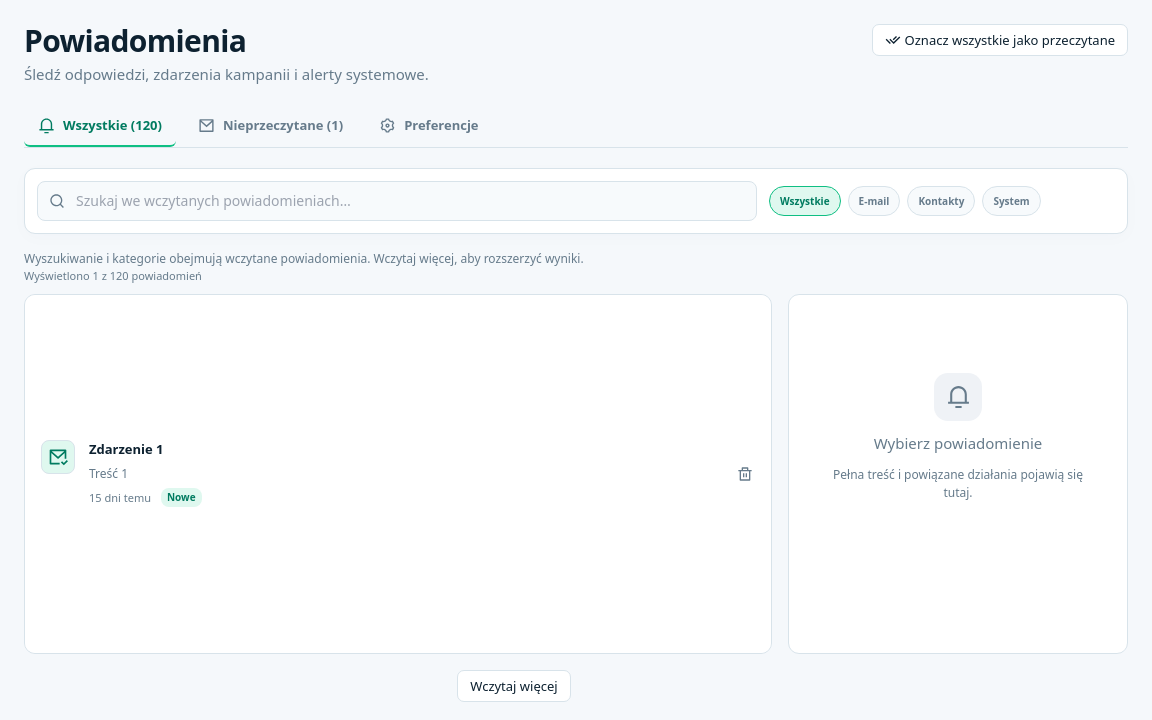
Test: notification workspace › limits unread pagination by unread count, not global total
This screenshot has width=1152, height=720.
Expected: the button "Zdarzenie 1 Treść 1 15 dni temu Nowe" is shown, [25, 422, 727, 525]
Click the tab "Nieprzeczytane (1)" at (271, 126), box [184, 105, 357, 147]
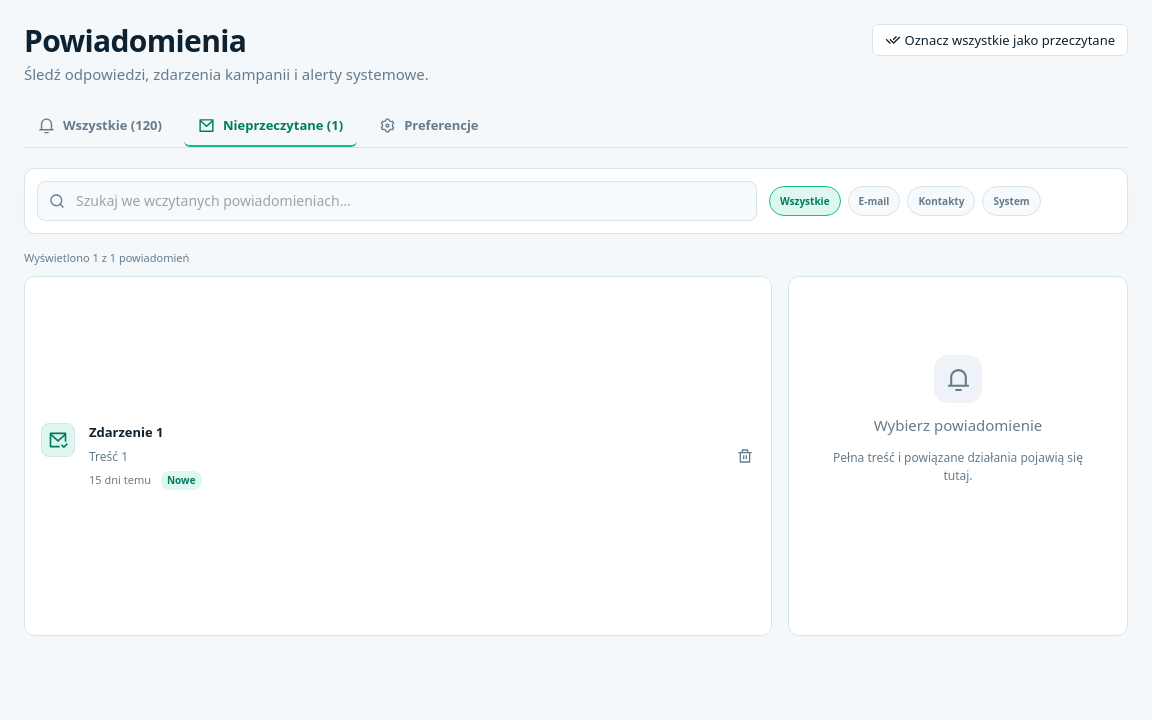
Expected: the tab "Wszystkie (120)" is shown, [24, 105, 176, 147]
Result: the text "Wyświetlono 1 z 1 powiadomień" is shown at [24, 250, 189, 265]
Result: the text "Wczytaj więcej" is gone
